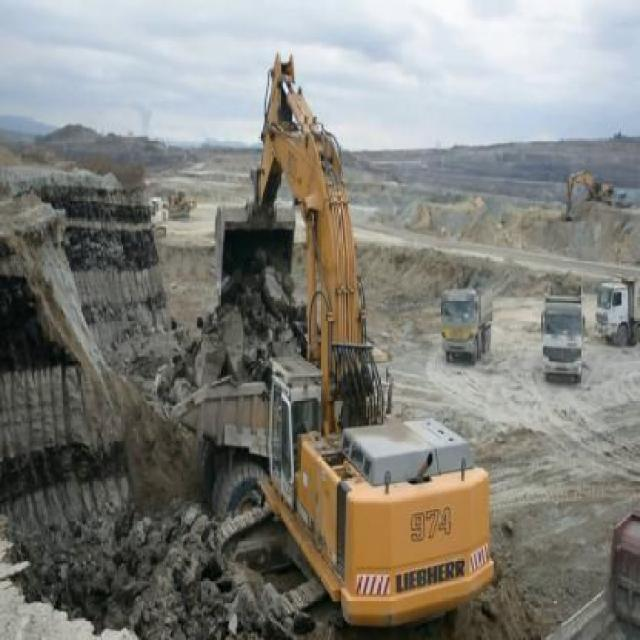Dump Truck: (437, 280, 492, 368), (539, 284, 583, 379), (594, 278, 637, 348)
Excavator: (208, 44, 494, 631), (562, 165, 616, 220)
